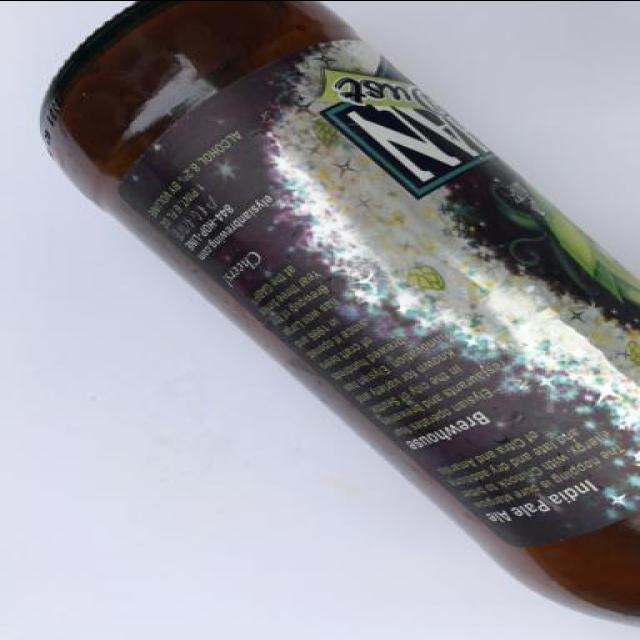Glass Bottle: (36, 7, 640, 629)
